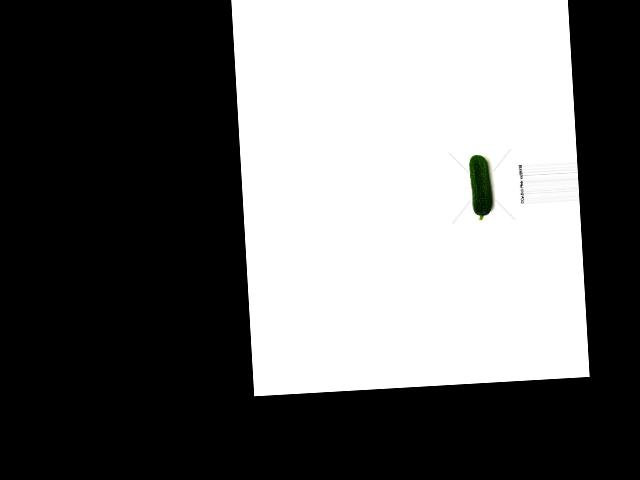cucumber: (469, 153, 493, 220)
